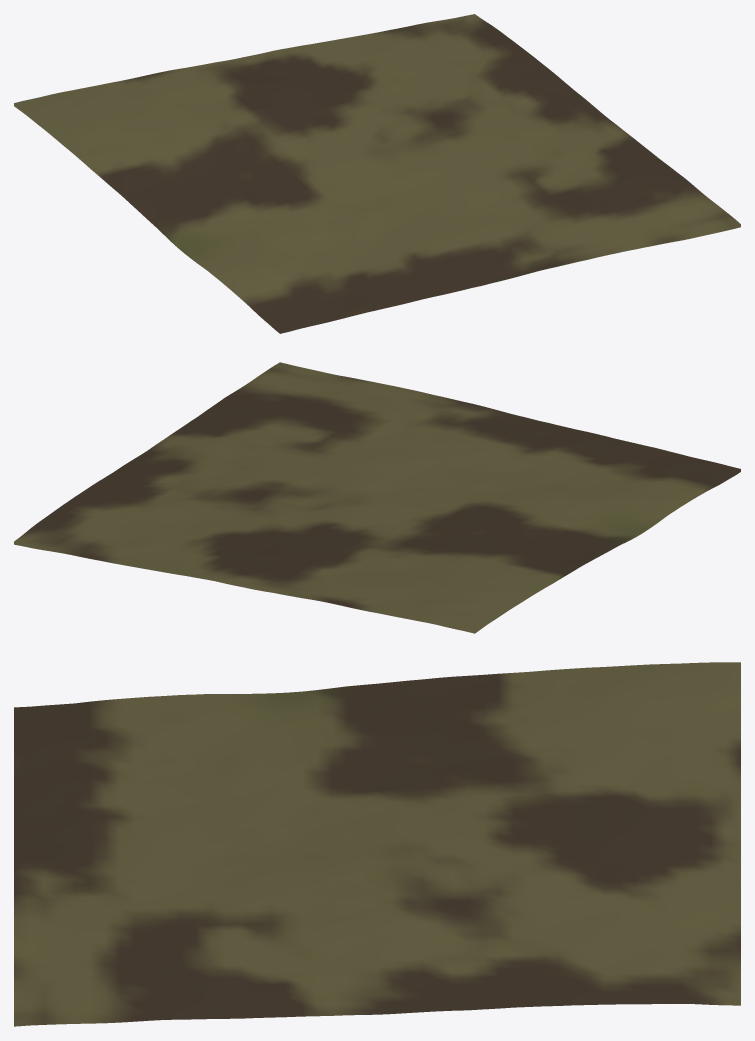
Rendered from land_m_11_06.glb.
The picture shows the model from 3 angles, top to bottom: view 1: azimuth 30°, elevation 25°; view 2: azimuth 150°, elevation 25°; view 3: azimuth 270°, elevation 25°; orthographic projection. The views are drawn at different scales.
Parts seen in each view (by area): view 1: land_m_11_06; view 2: land_m_11_06; view 3: land_m_11_06.
Boxes of the visible parts, left/top/right/bottom form: land_m_11_06: left=14, top=14, right=740, bottom=333; land_m_11_06: left=14, top=362, right=740, bottom=633; land_m_11_06: left=14, top=662, right=740, bottom=1026.
Bounding box in the file's own units: 960 × 83.24 × 960.
